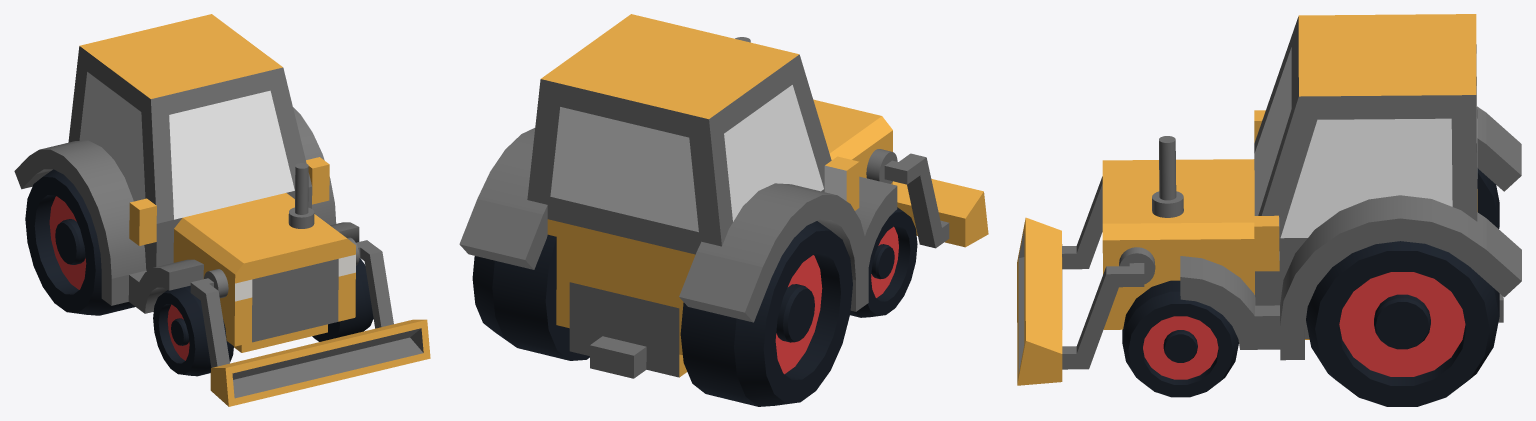
File: 032 JCB.FBX
The picture shows the model from 3 angles, left to right: view 1: azimuth 30°, elevation 25°; view 2: azimuth 150°, elevation 25°; view 3: azimuth 270°, elevation 25°; orthographic projection. The views are drawn at different scales.
Parts seen in each view (by area): view 1: body, shovel, skirts, Cylinder005, Cylinder007, Cylinder008; view 2: body, skirts, Cylinder005, Cylinder006, shovel, Cylinder007; view 3: body, Cylinder006, skirts, shovel, Cylinder008, Cylinder005.
Part boxes in pixels (bbox=[...]): body: bbox=[68, 14, 355, 352]; shovel: bbox=[190, 237, 430, 406]; skirts: bbox=[14, 107, 359, 313]; Cylinder005: bbox=[25, 169, 135, 315]; Cylinder007: bbox=[153, 285, 233, 376]; Cylinder008: bbox=[312, 258, 373, 341]; body: bbox=[527, 14, 892, 378]; skirts: bbox=[459, 128, 897, 322]; Cylinder005: bbox=[680, 221, 852, 406]; Cylinder006: bbox=[472, 234, 589, 360]; shovel: bbox=[866, 149, 988, 248]; Cylinder007: bbox=[850, 207, 917, 317]; body: bbox=[1102, 14, 1503, 339]; Cylinder006: bbox=[1306, 241, 1499, 406]; skirts: bbox=[1180, 106, 1521, 360]; shovel: bbox=[1017, 176, 1155, 385]; Cylinder008: bbox=[1122, 280, 1238, 397]; Cylinder005: bbox=[1477, 168, 1499, 228].
Bounding box in the file's own units: 167 × 165 × 256.
